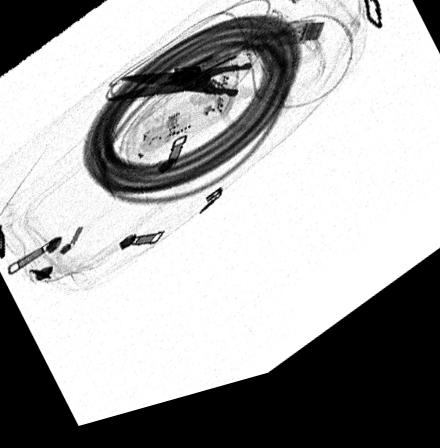Scissors: (101, 40, 320, 151)
